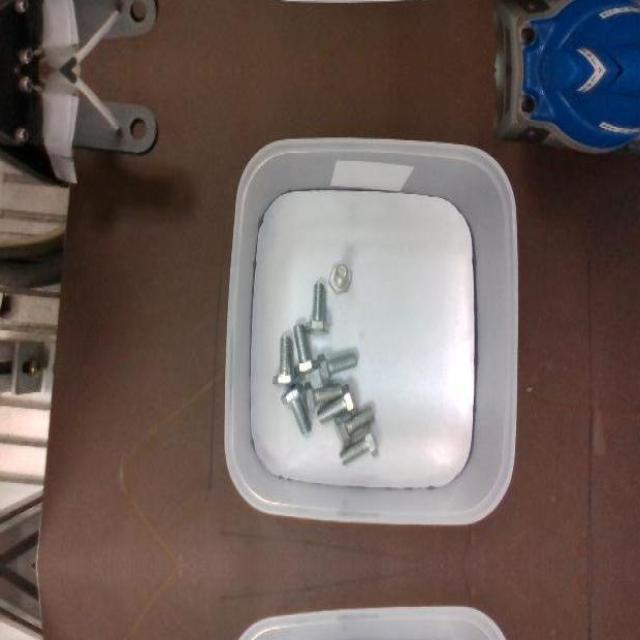screw: (334, 404, 375, 448), (338, 423, 379, 466), (317, 383, 357, 424), (280, 382, 310, 436), (317, 352, 357, 387), (304, 284, 330, 336), (293, 323, 319, 375), (272, 336, 298, 386), (304, 382, 342, 415), (328, 263, 352, 294)
